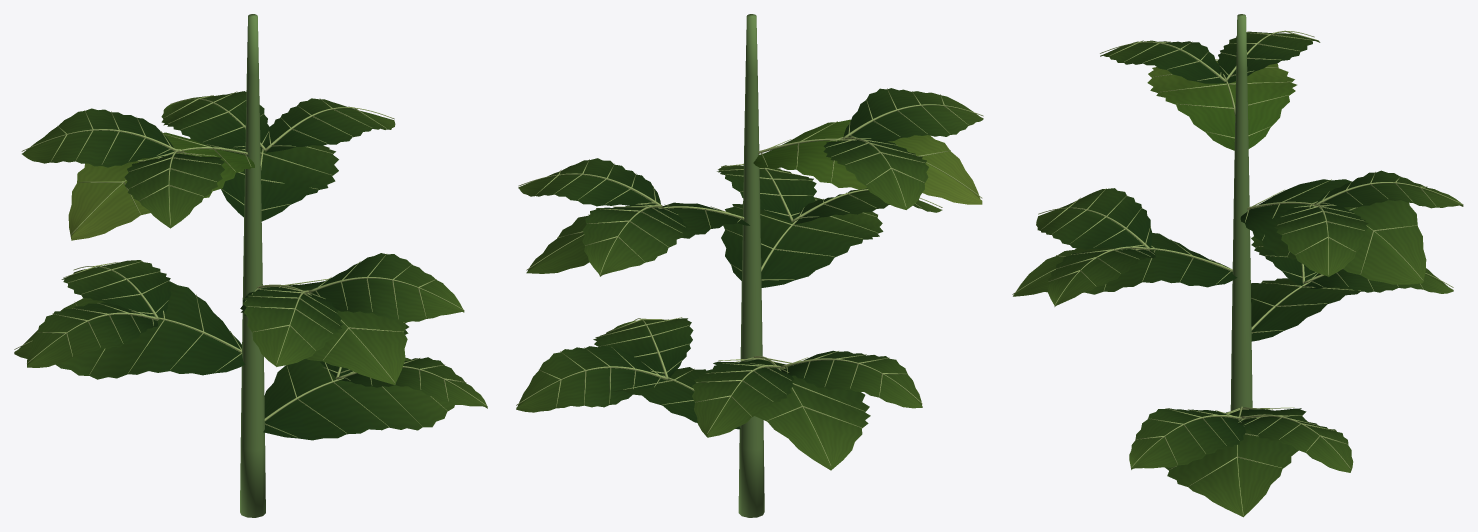
Rendered from dahlia-04.glb.
3 views of the same model, side by side, from view 1: azimuth 30°, elevation 25°; view 2: azimuth 150°, elevation 25°; view 3: azimuth 270°, elevation 25° (orthographic). The views are drawn at different scales.
Parts seen in each view (by area): view 1: dahlia_stage_04_leaf_veins.006, dahlia_stage_04_stem_fibres.006, dahlia_stage_04_raised_midveins.006, dahlia_stage_04_young_leaf.006; view 2: dahlia_stage_04_leaf_veins.006, dahlia_stage_04_raised_midveins.006, dahlia_stage_04_stem_fibres.006, dahlia_stage_04_young_leaf.006; view 3: dahlia_stage_04_leaf_veins.006, dahlia_stage_04_raised_midveins.006, dahlia_stage_04_stem_fibres.006, dahlia_stage_04_young_leaf.006.
Part boxes in pixels (x1=…): dahlia_stage_04_leaf_veins.006: x1=14, y1=91, x2=487, y2=440; dahlia_stage_04_stem_fibres.006: x1=240, y1=14, x2=265, y2=517; dahlia_stage_04_raised_midveins.006: x1=14, y1=91, x2=487, y2=437; dahlia_stage_04_young_leaf.006: x1=68, y1=132, x2=254, y2=240; dahlia_stage_04_leaf_veins.006: x1=516, y1=88, x2=983, y2=470; dahlia_stage_04_raised_midveins.006: x1=516, y1=88, x2=983, y2=465; dahlia_stage_04_stem_fibres.006: x1=738, y1=14, x2=764, y2=517; dahlia_stage_04_young_leaf.006: x1=753, y1=119, x2=982, y2=204; dahlia_stage_04_leaf_veins.006: x1=1013, y1=31, x2=1463, y2=517; dahlia_stage_04_raised_midveins.006: x1=1012, y1=30, x2=1463, y2=515; dahlia_stage_04_stem_fibres.006: x1=1230, y1=14, x2=1252, y2=410; dahlia_stage_04_young_leaf.006: x1=1147, y1=61, x2=1296, y2=150.
Bounding box in the file's own units: 0.1466 × 0.1669 × 0.145.
4 materials, 2 textured.
